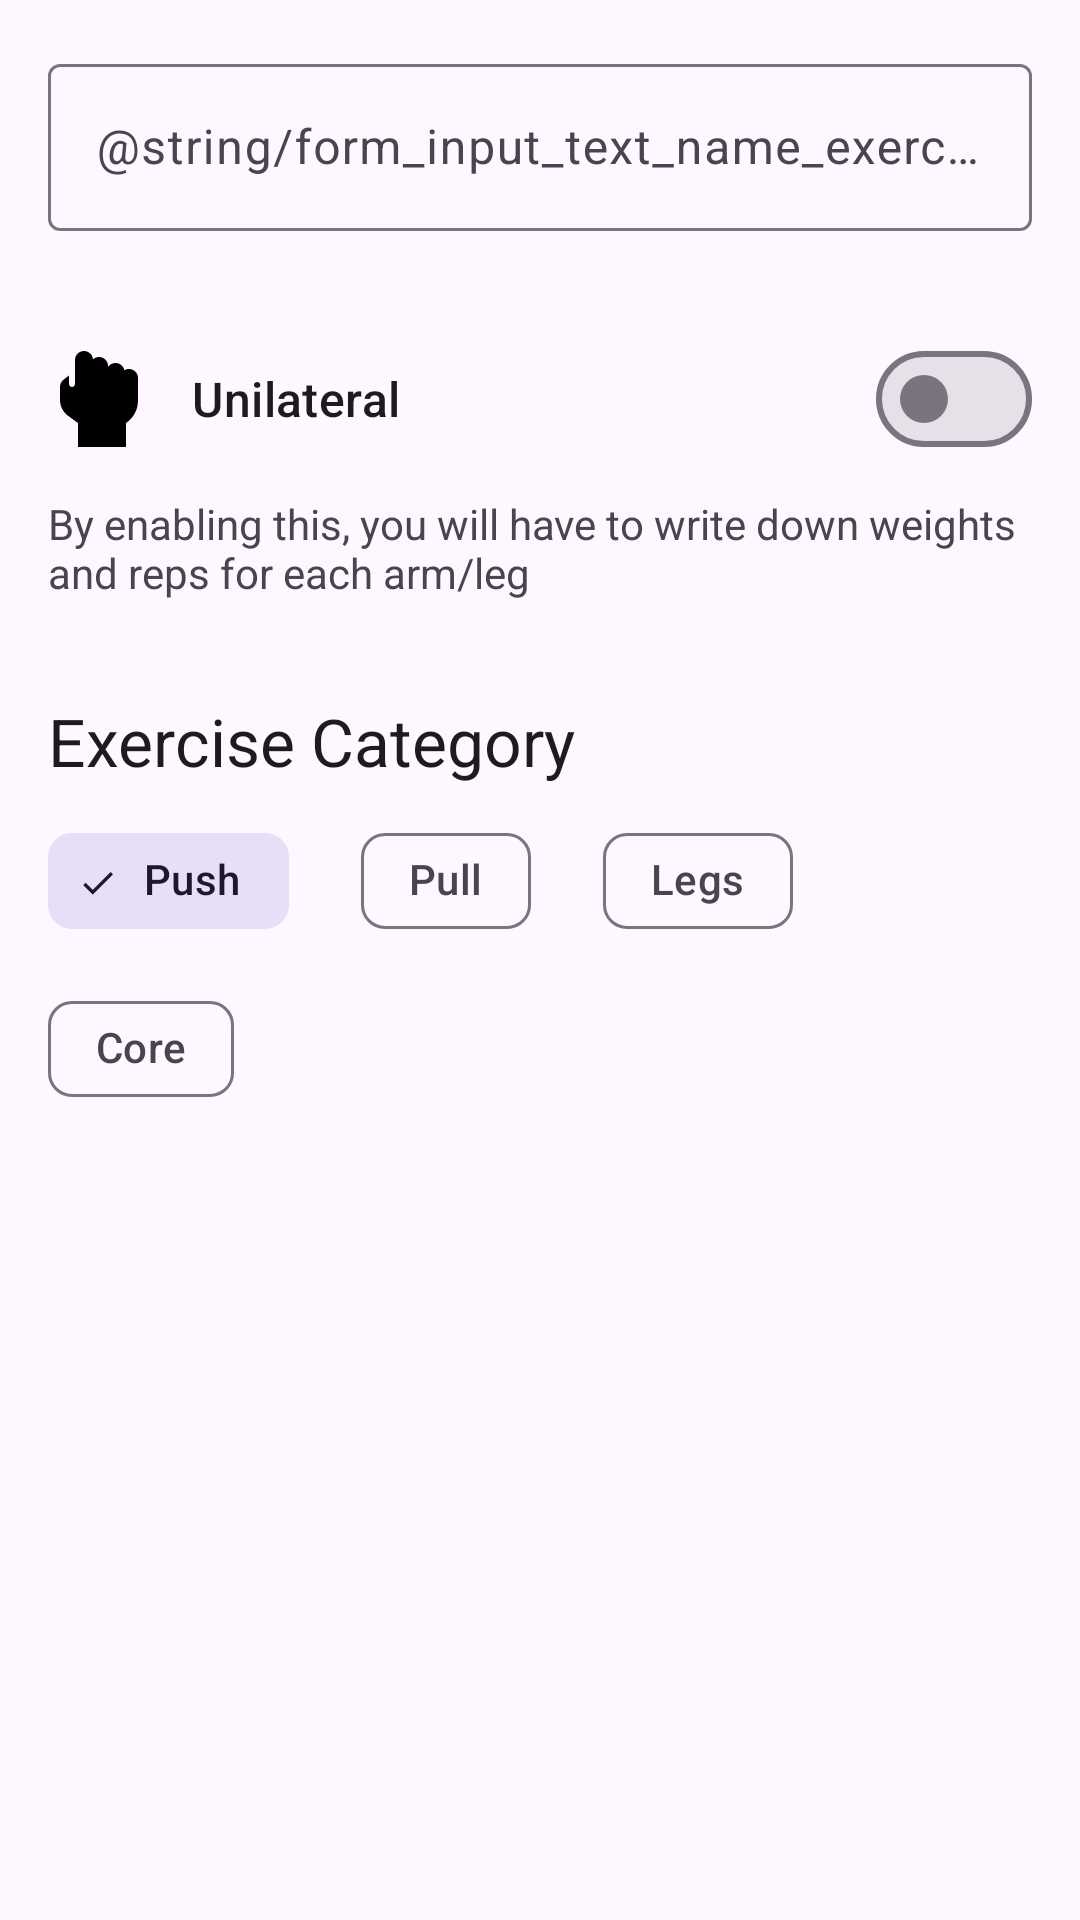

Where to tap for icons on this 1080*1920 app screen, as [x,y]:
fist: [99,399]
